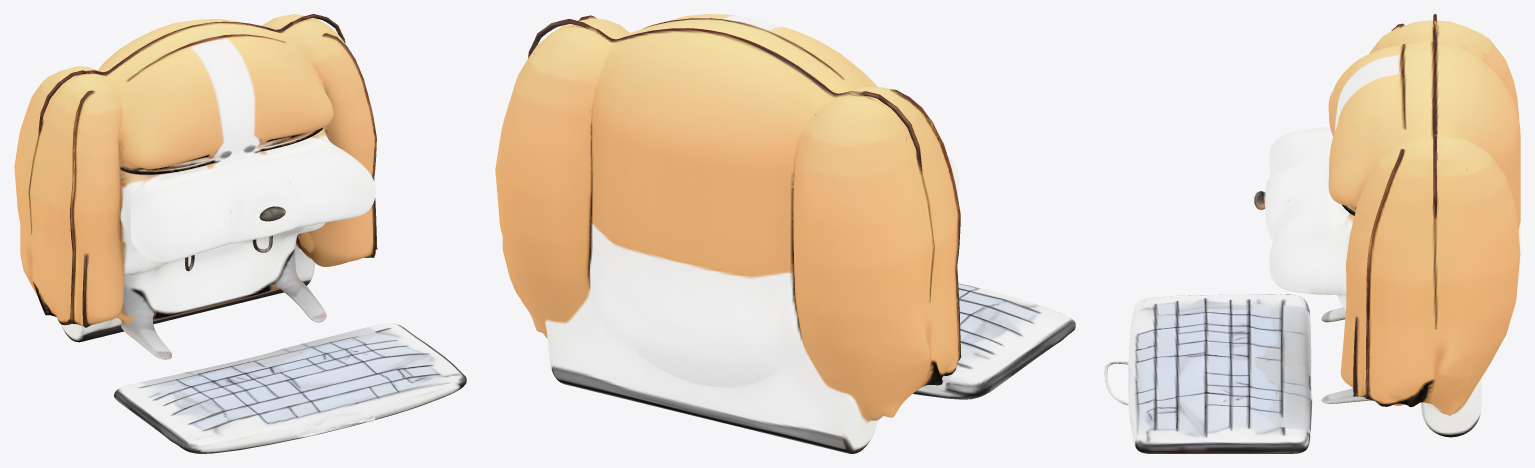
The model's file is Meme2 1.fbx.
The picture shows the model from 3 angles, left to right: view 1: azimuth 30°, elevation 25°; view 2: azimuth 150°, elevation 25°; view 3: azimuth 270°, elevation 25°; orthographic projection. The views are drawn at different scales.
Visible parts, largest first — view 1: model.001; view 2: model.001; view 3: model.001.
Boxes of the visible parts, left/top/right/bottom form: model.001: left=14, top=14, right=466, bottom=453; model.001: left=495, top=14, right=1075, bottom=453; model.001: left=1104, top=14, right=1520, bottom=453.
Bounding box in the file's own units: 188 × 168 × 190.
